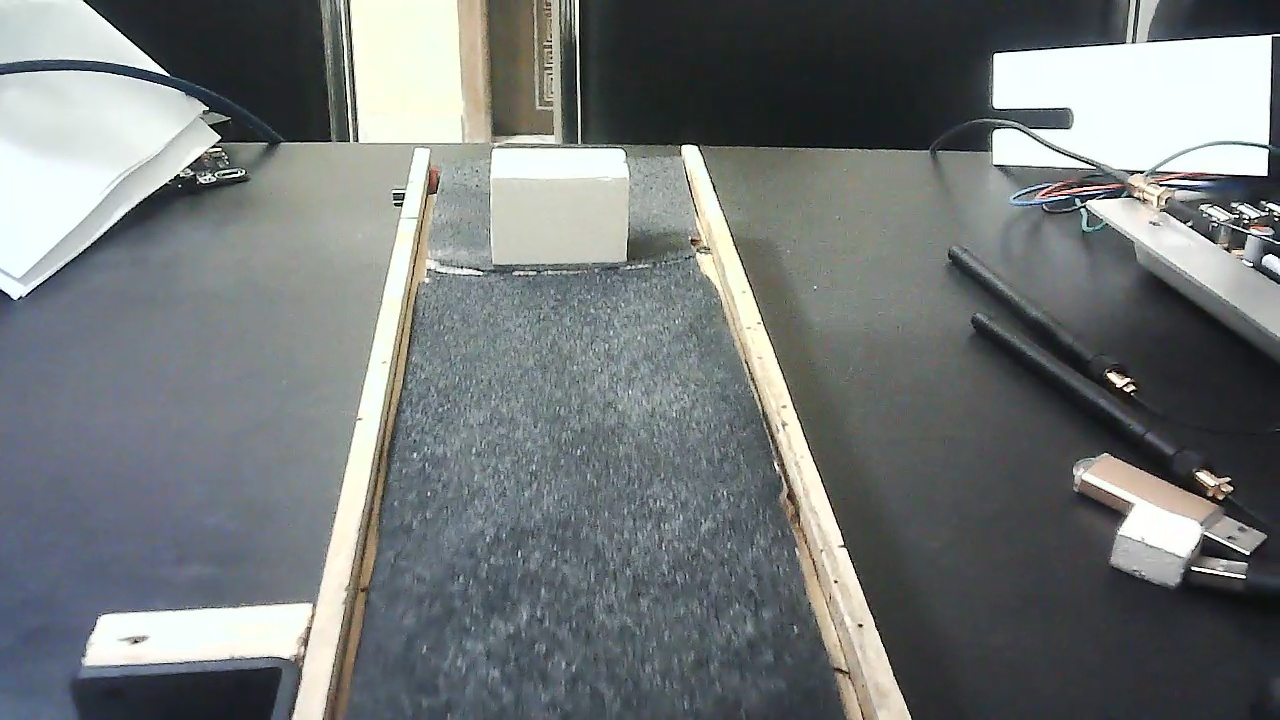BIG: (491, 140, 629, 278)
